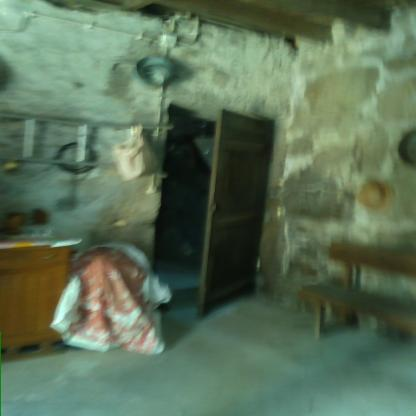semi: (162, 88, 288, 319)
